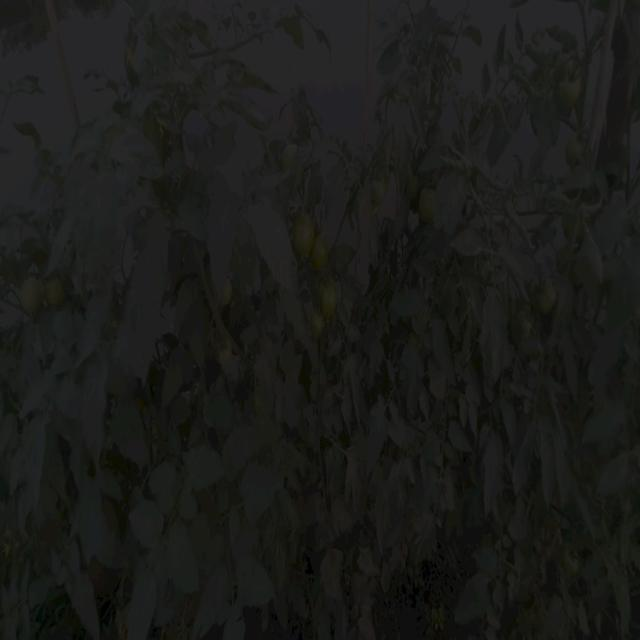tomato: (288, 214, 315, 264), (216, 343, 247, 385), (320, 279, 345, 319), (22, 273, 44, 318), (560, 545, 587, 580), (562, 73, 583, 112), (368, 179, 387, 215), (47, 277, 67, 309), (418, 183, 432, 225), (537, 289, 560, 313), (281, 135, 294, 164)
